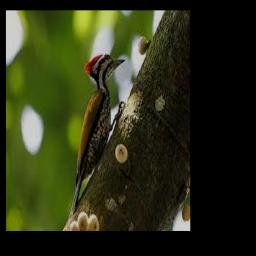Woodpecker: (70, 54, 125, 215)
